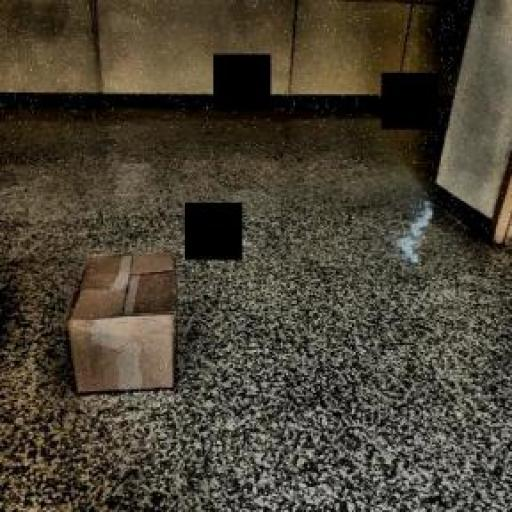box: (60, 246, 186, 406)
